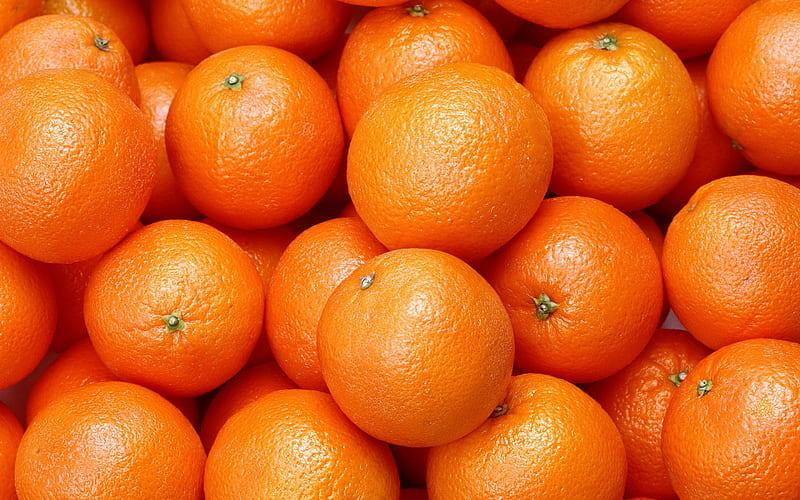orange: (315, 241, 516, 453), (353, 56, 546, 263), (165, 34, 351, 240), (525, 18, 703, 214), (84, 221, 263, 401), (492, 202, 673, 375), (5, 70, 162, 269), (7, 384, 211, 500), (438, 373, 623, 500), (204, 386, 409, 500), (664, 176, 800, 344), (662, 340, 800, 500), (706, 5, 800, 172), (172, 0, 352, 54), (0, 236, 56, 397), (0, 22, 142, 71)
